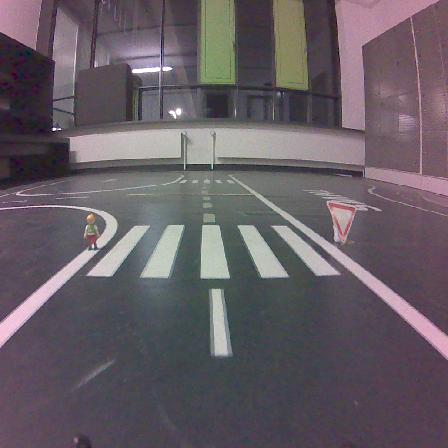CHILD: (84, 214, 99, 249)
GIVE_WAY: (327, 201, 355, 243)
